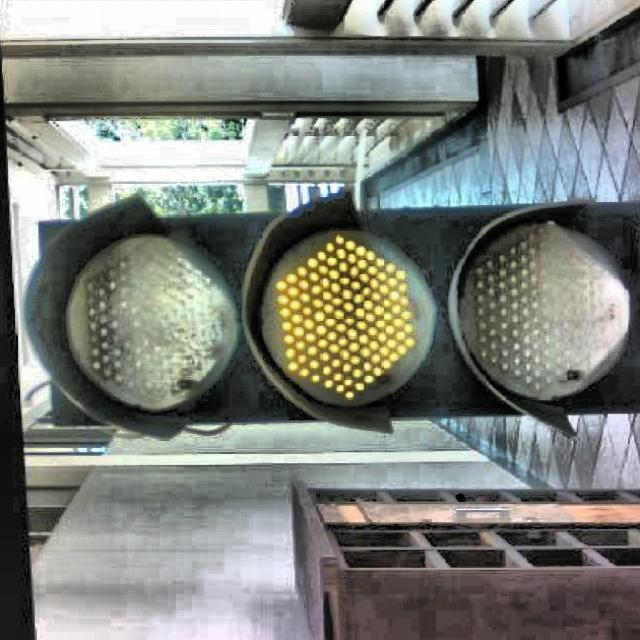yellow: (54, 214, 639, 418)
